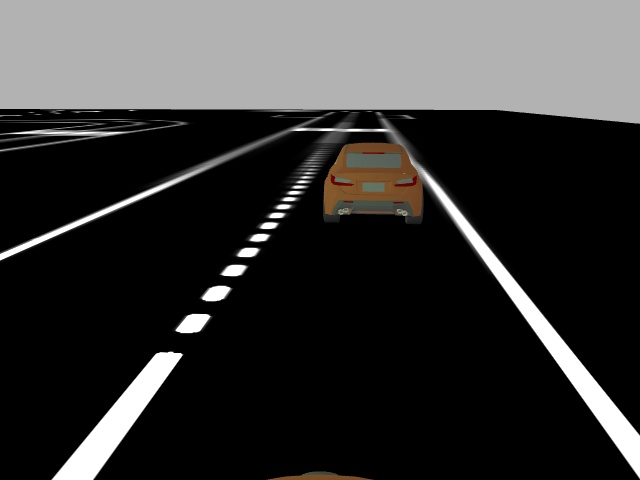obstacle_car: (319, 142, 424, 226)
